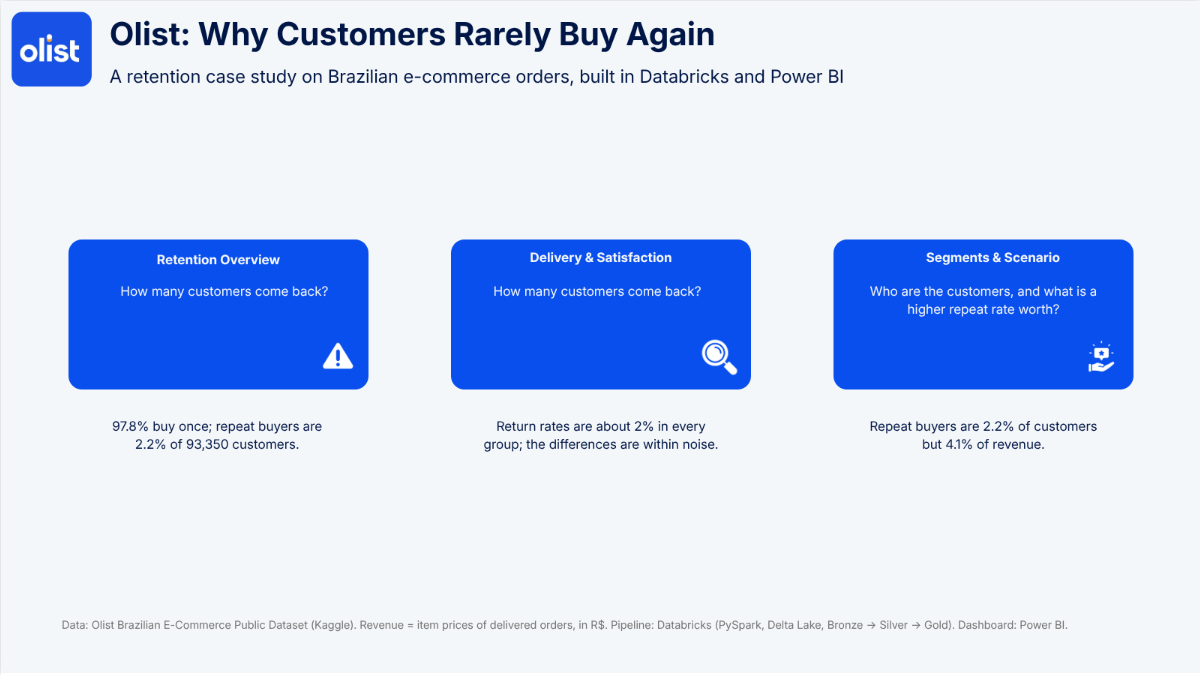

This screenshot's page, from the dashboard's own definition file:
{"tool":"powerbi","page":{"name":"HOME","canvas":[1600,900],"ordinal":0},"visuals":[{"type":"actionButton","box":[605.6,321.1,391.5,197.2],"z":0},{"type":"actionButton","box":[94.4,321.1,391.5,197.2],"z":1},{"type":"actionButton","box":[1108.5,321.1,391.5,197.2],"z":2}]}

Visuals, with their boxes in screenshot pixels (x1, y1, x2, y2), scaled from the page's 1600x900 canvas onto the 1200x675 screenshot:
actionButton: 454/241/748/389
actionButton: 71/241/364/389
actionButton: 831/241/1125/389
